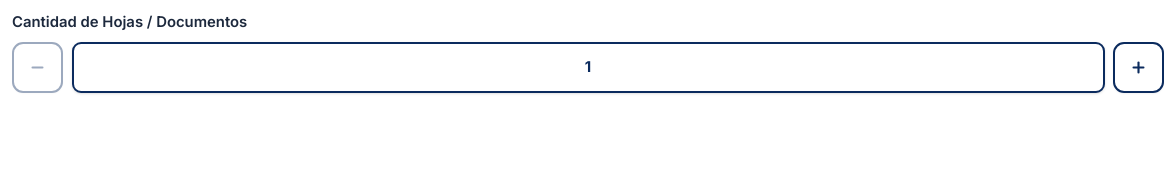
Test: QuantityStepper › replaces the initial value when typing directly and clamps to the maximum
The width and height of the screenshot is (1176, 172).
Later steps or results of the test are not shown.
Click the field named "Cantidad de Hojas / Documentos" at (588, 67), box [72,42,1104,93]
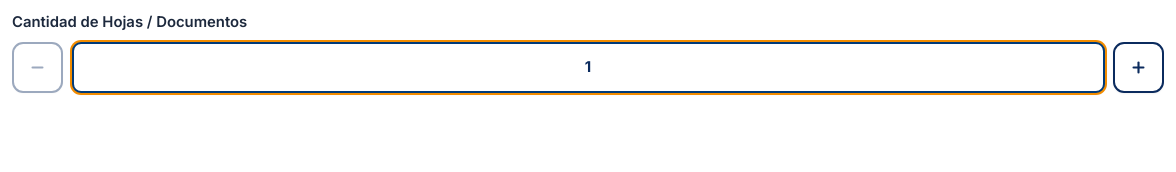
Type keys "4"
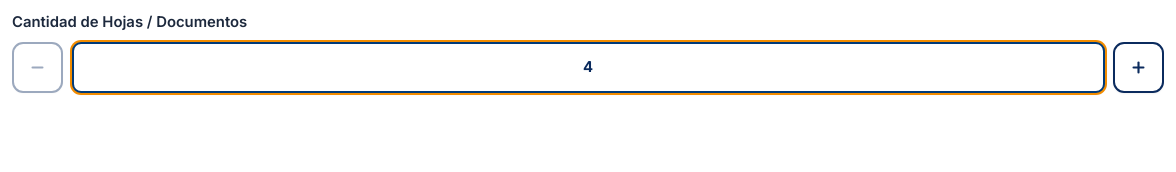
expect the field named "Cantidad de Hojas / Documentos" holds "4": met, box [72,42,1104,93]
